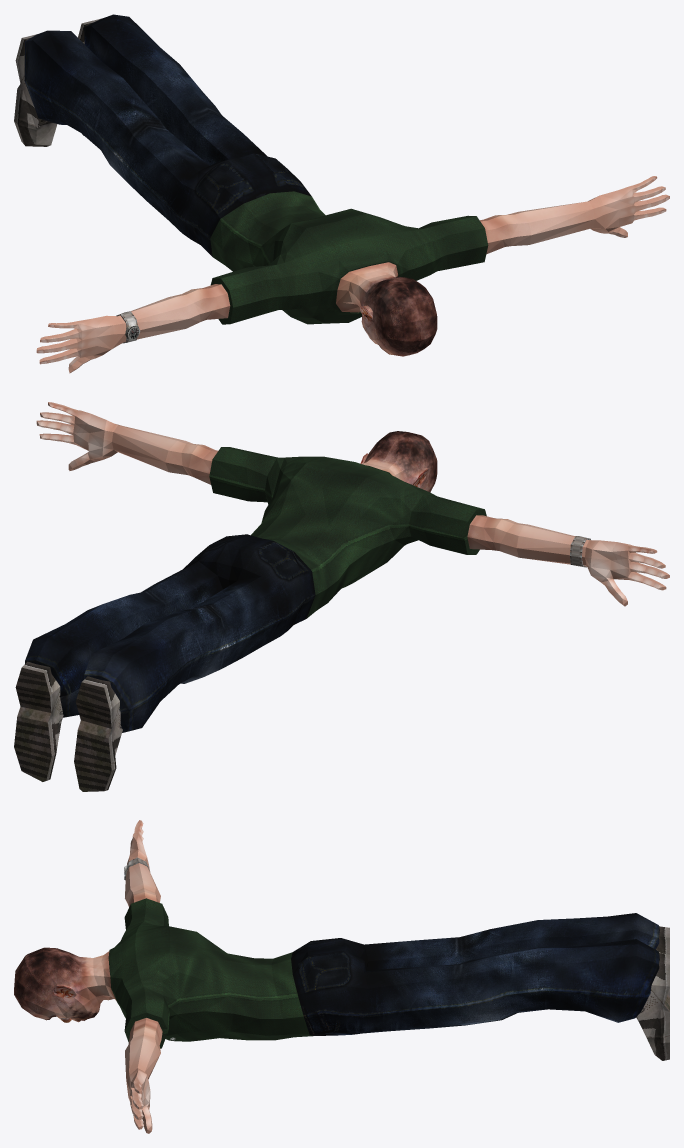
The model's file is tomdrinman4_3kgreenbeard_wtf.obj.
3 renders of one model, top to bottom at view 1: azimuth 30°, elevation 25°; view 2: azimuth 150°, elevation 25°; view 3: azimuth 270°, elevation 25°, orthographic. The views are drawn at different scales.
Parts seen in each view (by area): view 1: group1; view 2: group1; view 3: group1.
Boxes of the visible parts, x1=… form: group1: x1=14, y1=14, x2=669, y2=373; group1: x1=14, y1=402, x2=669, y2=791; group1: x1=14, y1=820, x2=669, y2=1133.
Size of the model in its own units: 660 by 129 by 647.
